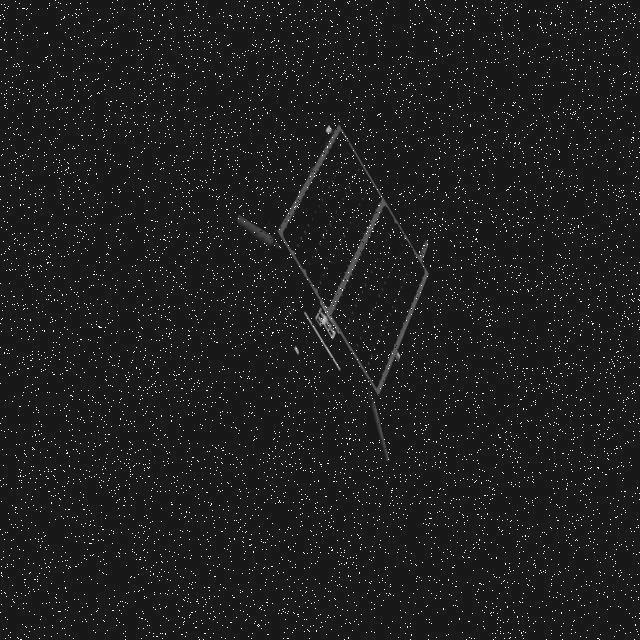medium_debris: (234, 116, 440, 404)
